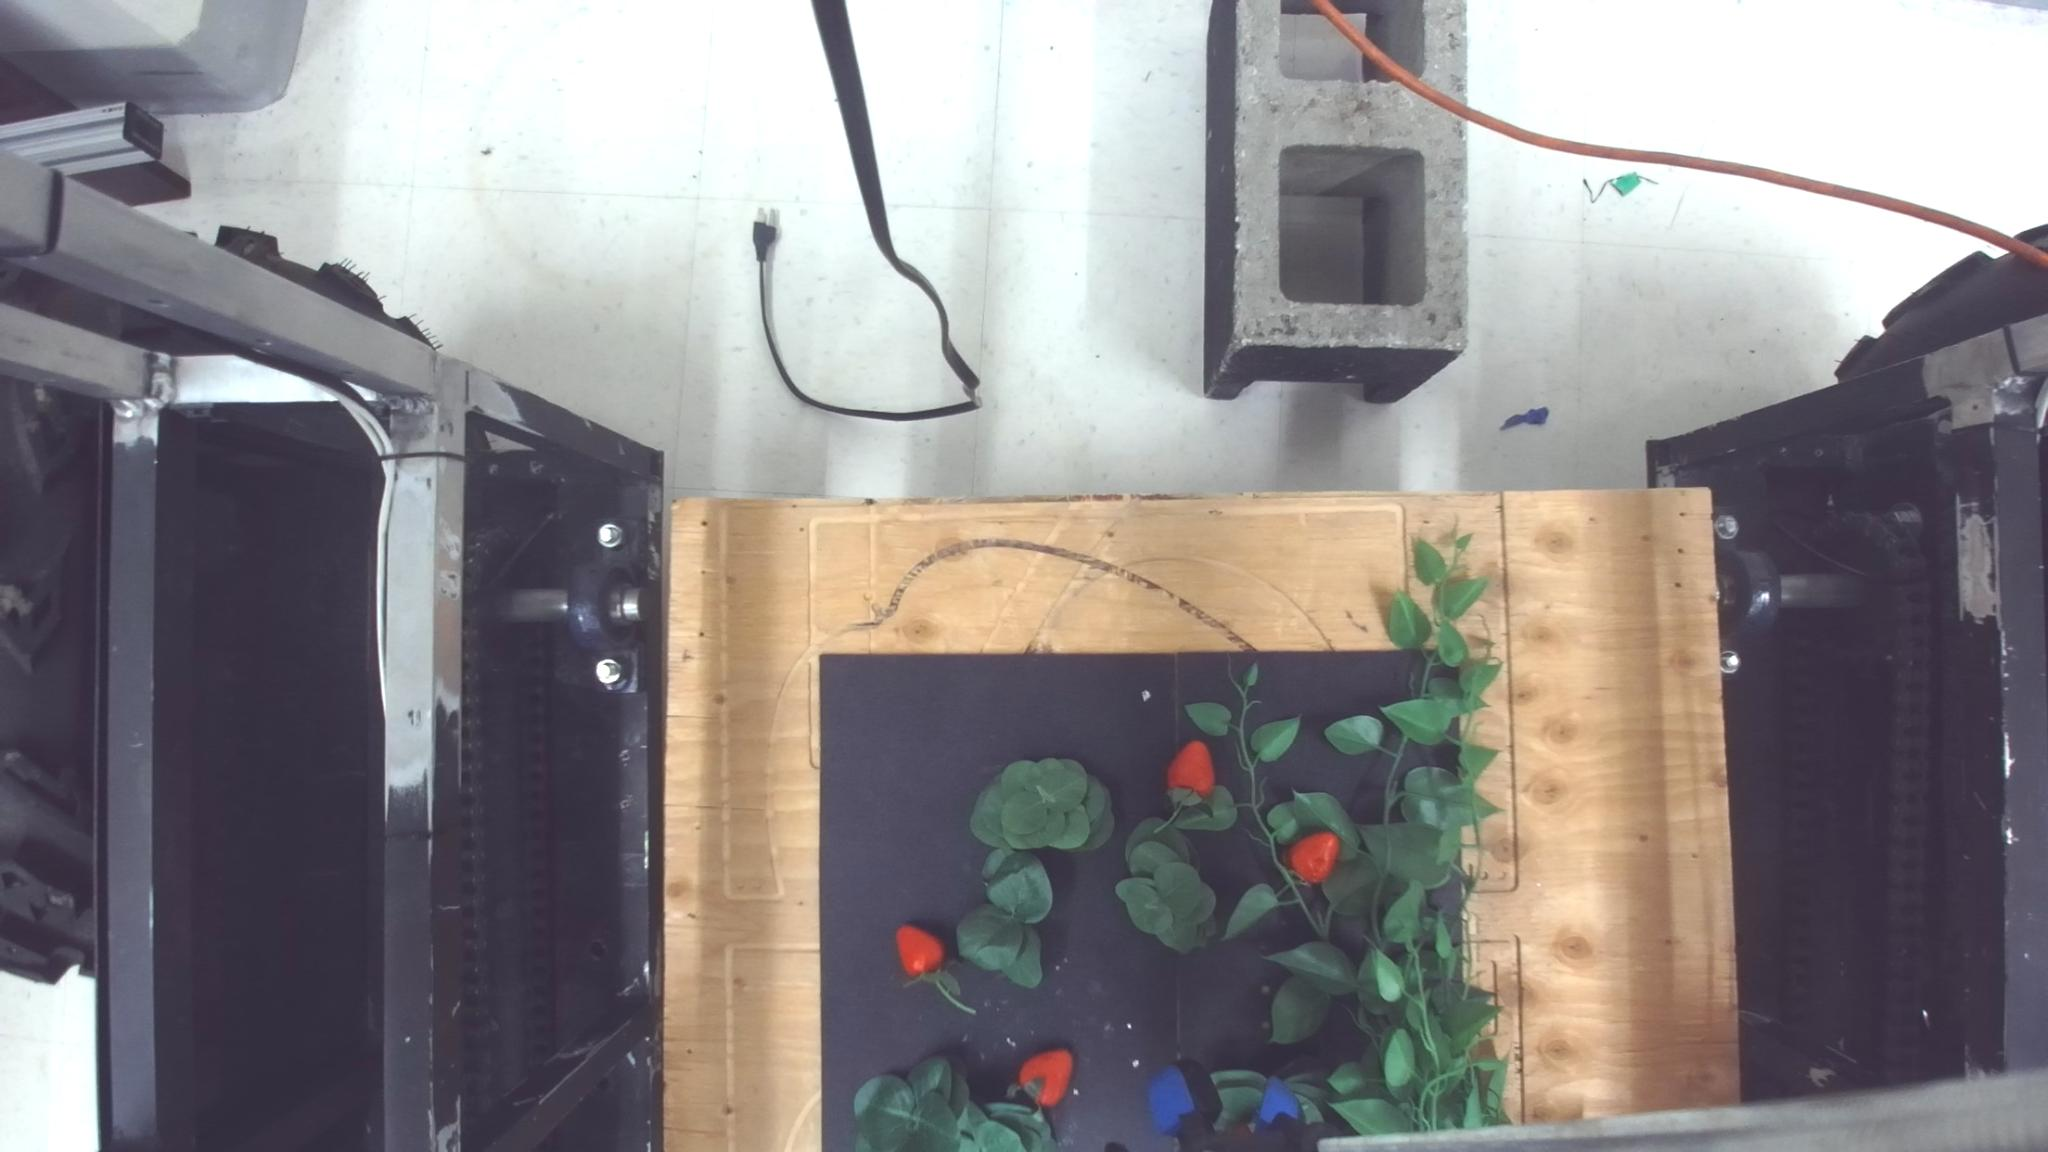strawberry: (1016, 1048, 1075, 1108), (1165, 738, 1215, 800), (1286, 830, 1340, 885), (895, 924, 944, 979)
